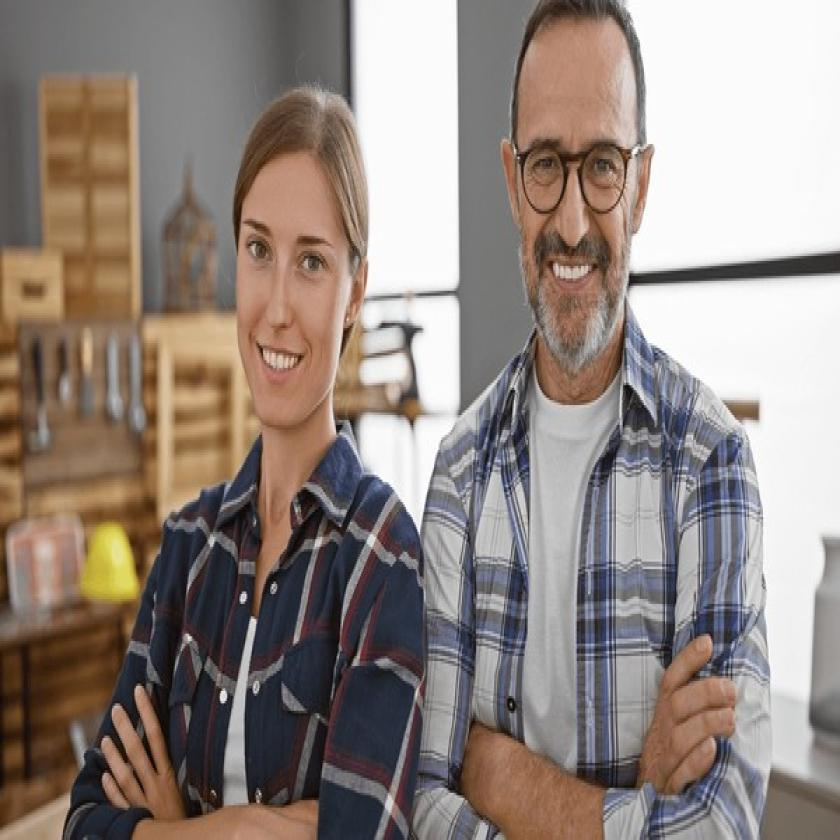Sin_casco: (218, 74, 378, 478), (495, 0, 652, 399)
